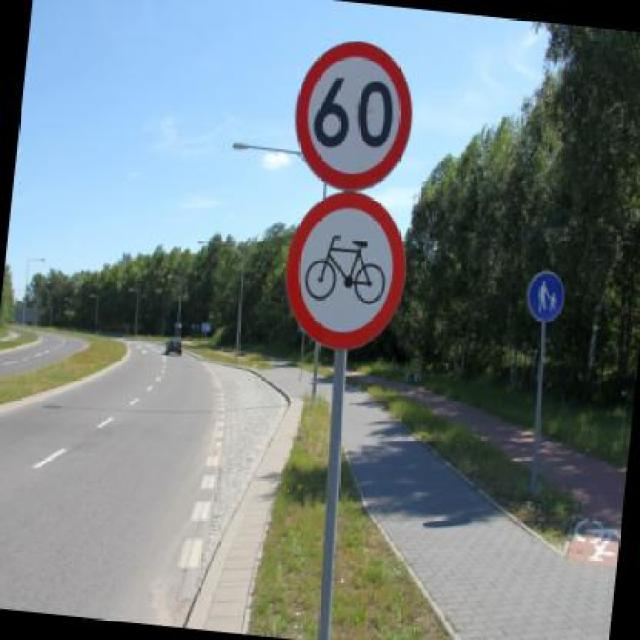Limite-60: (295, 39, 414, 190)
